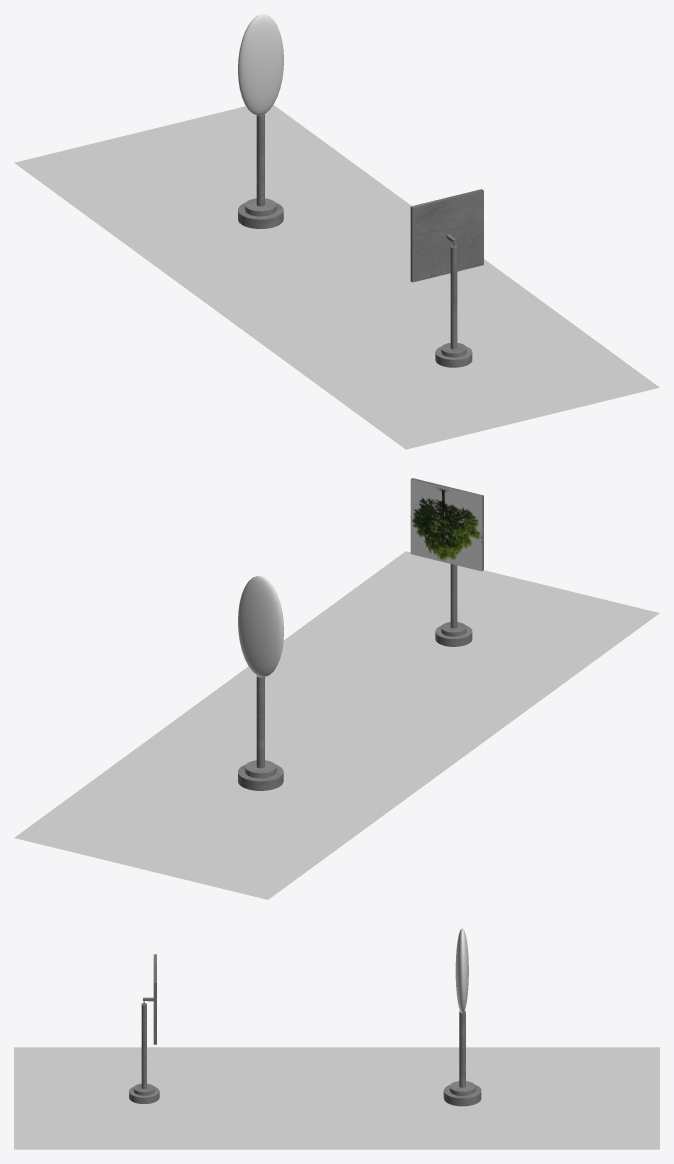
The model's file is Concave_mirror_manual_focal length.fbx.
3 views of the same model, one above another, from view 1: azimuth 30°, elevation 25°; view 2: azimuth 150°, elevation 25°; view 3: azimuth 270°, elevation 25° (orthographic). The views are drawn at different scales.
Parts seen in each view (by area): view 1: Plane, Cylinder, Sphere.001, Cylinder.001; view 2: Plane, Cylinder, Sphere.001, Cylinder.001; view 3: Plane, Cylinder, Cylinder.001, Sphere.001.
Part boxes in pixels (<box>): Plane: <box>14,105,659,449</box>; Cylinder: <box>410,189,483,367</box>; Sphere.001: <box>238,14,283,115</box>; Cylinder.001: <box>238,114,283,228</box>; Plane: <box>14,551,659,899</box>; Cylinder: <box>410,478,483,646</box>; Sphere.001: <box>238,576,283,676</box>; Cylinder.001: <box>238,675,283,790</box>; Plane: <box>14,1047,659,1149</box>; Cylinder: <box>129,954,159,1103</box>; Cylinder.001: <box>443,1010,481,1106</box>; Sphere.001: <box>455,928,468,1013</box>.
Size of the model in its own units: 3968 by 3060 by 10599.
